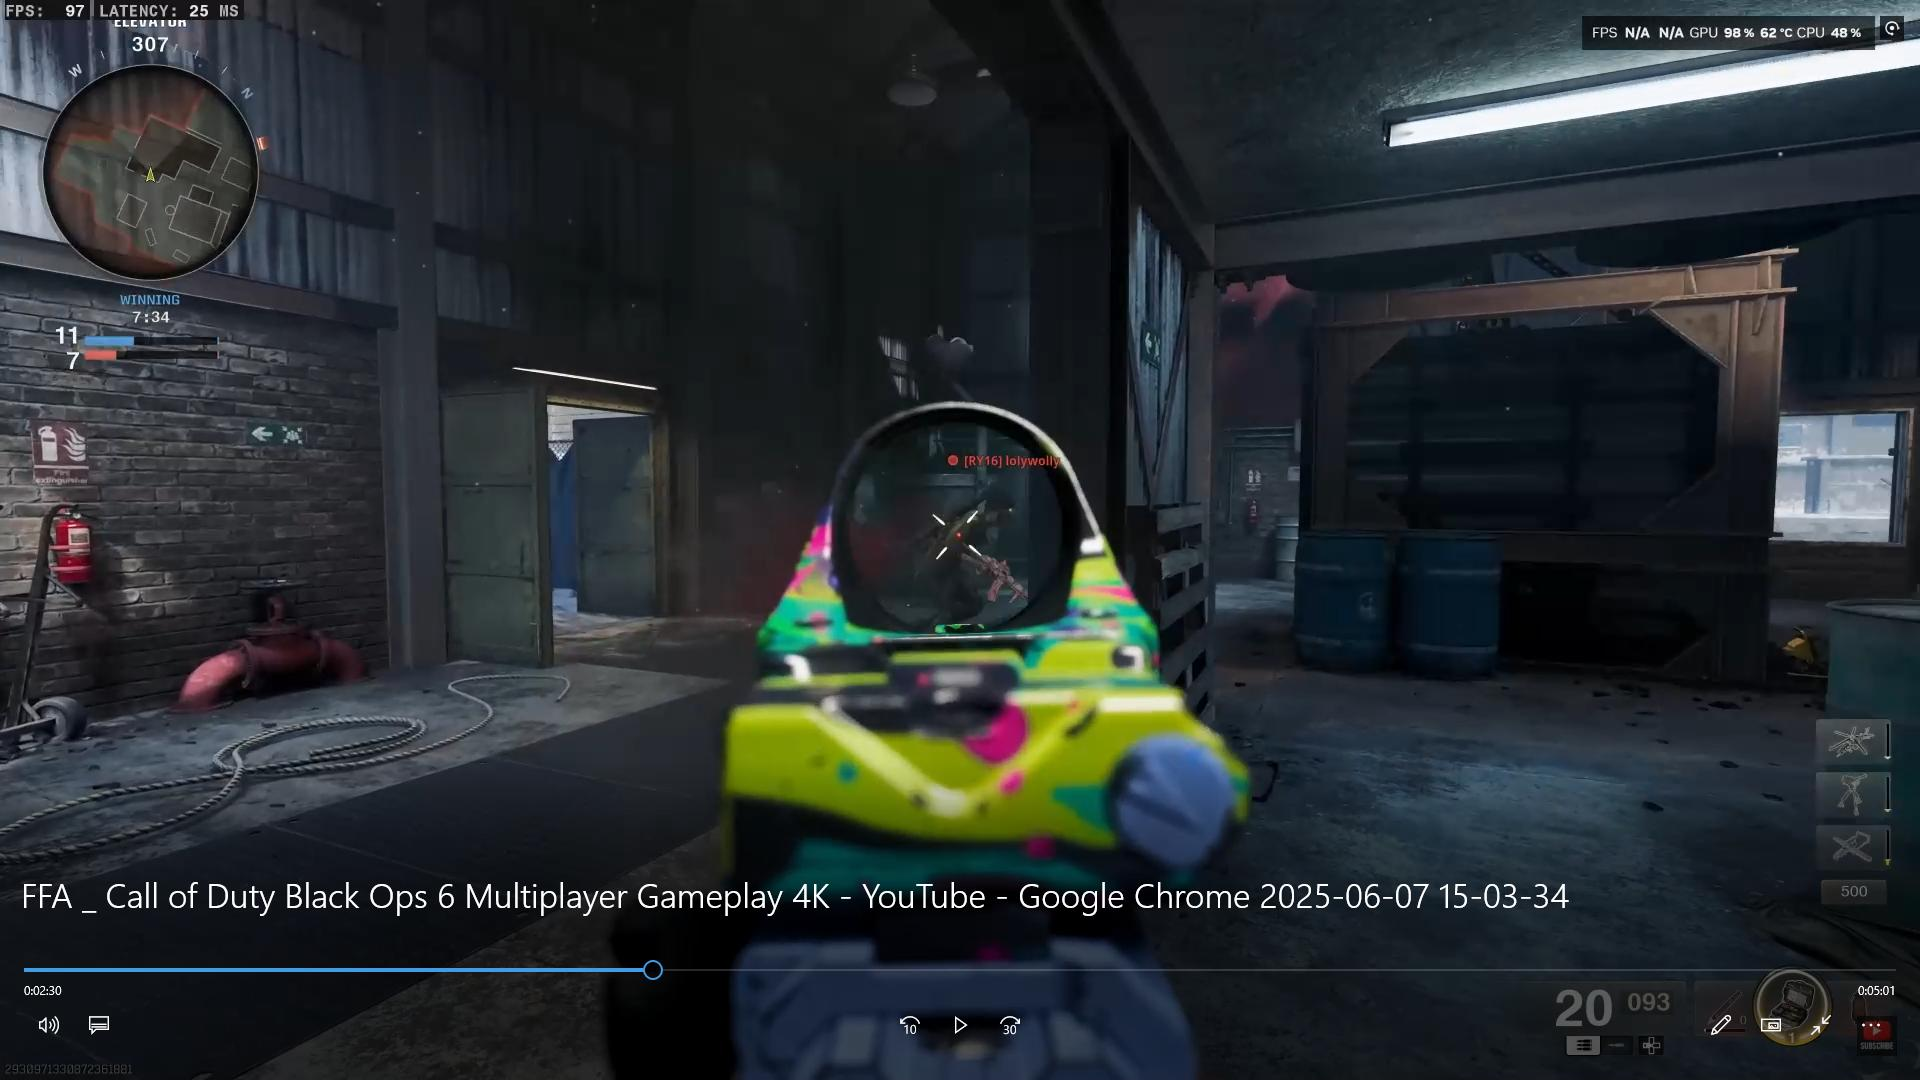Enemy: (909, 460, 1029, 603)
